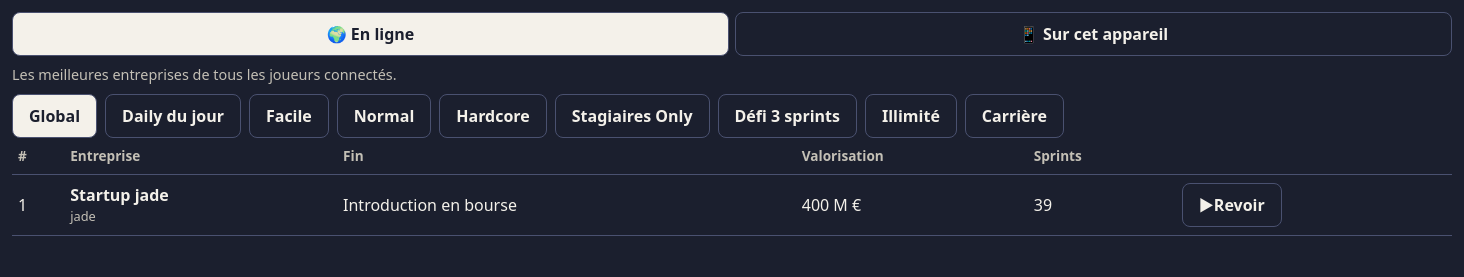
Leaderboard › affiche une erreur si le replay ne se charge pas
Click the button with aria-label "Revoir la partie de jade" at (1232, 205), box [1182, 183, 1282, 227]
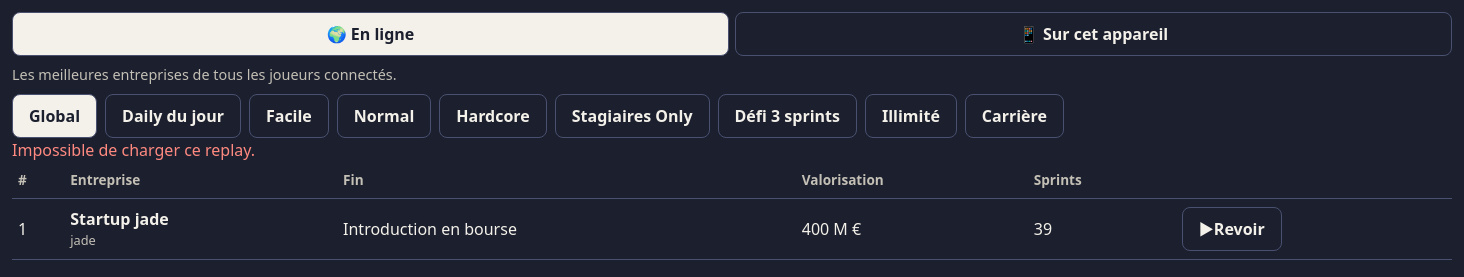
Check: the button with aria-label "Revoir la partie de jade" is shown, box [1182, 207, 1282, 251]
Check: the message reads "Impossible de charger ce replay.", box [12, 139, 255, 161]
